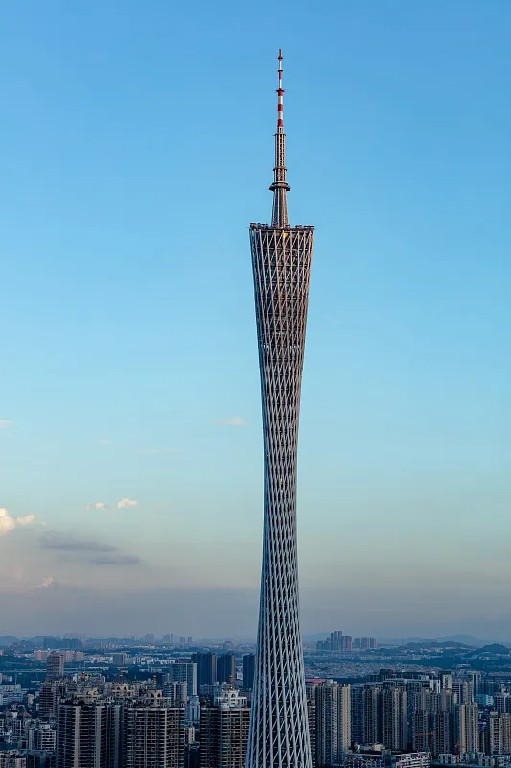Canton: (241, 45, 320, 768)
